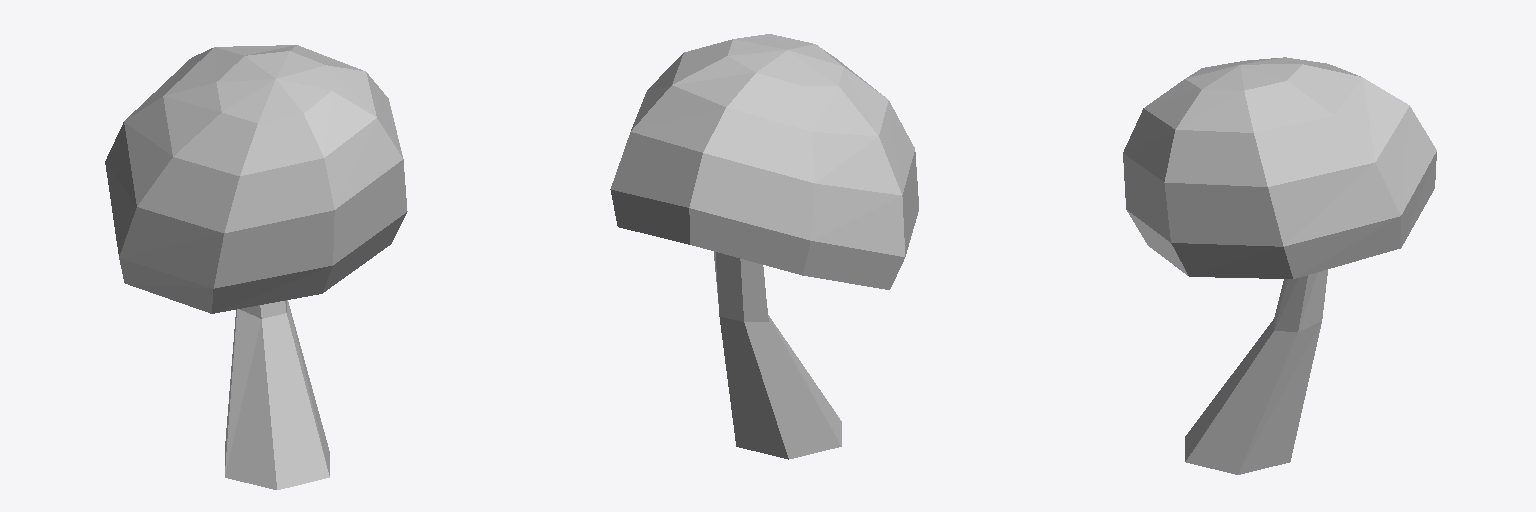
Rendered from shroom1.obj.
The picture shows the model from 3 angles: view 1: azimuth 30°, elevation 25°; view 2: azimuth 150°, elevation 25°; view 3: azimuth 270°, elevation 25°; orthographic projection.
Visible parts, largest first — view 1: shroom1, pCylinder1; view 2: shroom1, pCylinder1; view 3: shroom1, pCylinder1.
Part boxes in pixels (left/top/right/bottom): shroom1: left=105, top=45, right=407, bottom=313; pCylinder1: left=225, top=300, right=329, bottom=489; shroom1: left=610, top=34, right=918, bottom=289; pCylinder1: left=714, top=252, right=841, bottom=459; shroom1: left=1123, top=57, right=1436, bottom=278; pCylinder1: left=1185, top=270, right=1327, bottom=474.
Bounding box in the file's own units: 0.6434 × 0.8666 × 0.6378.